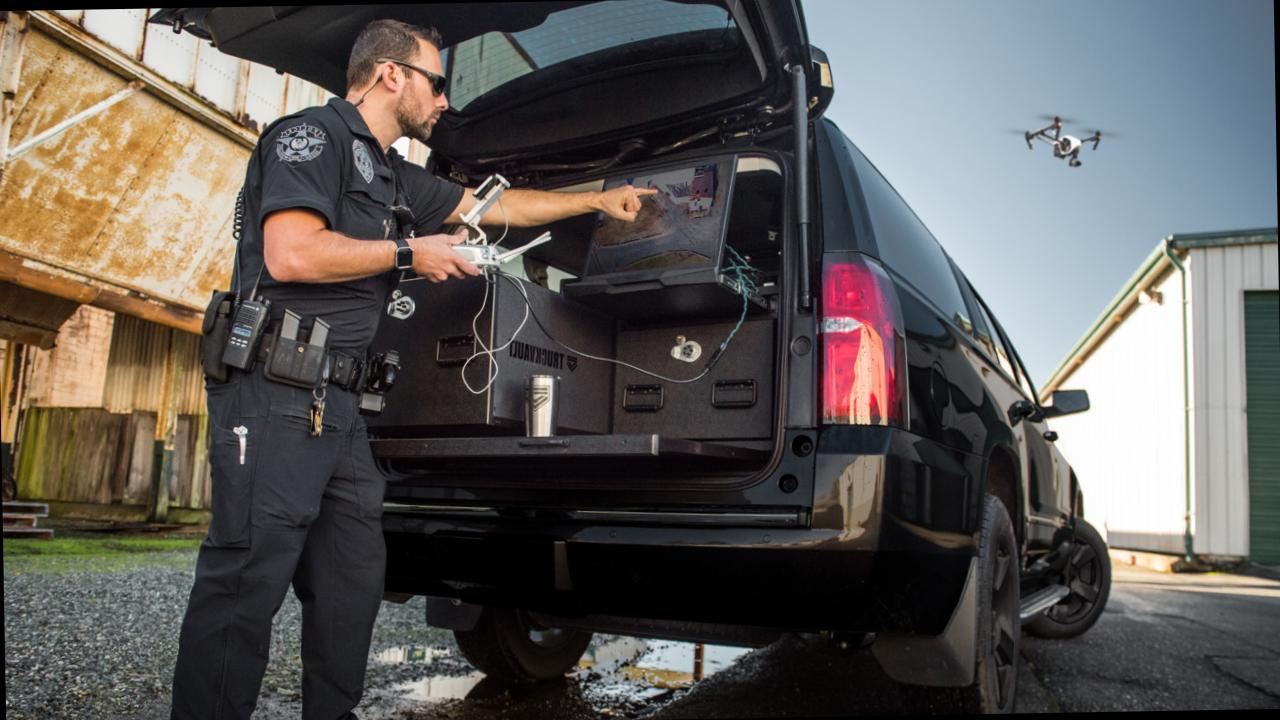drone: (1006, 100, 1126, 178)
